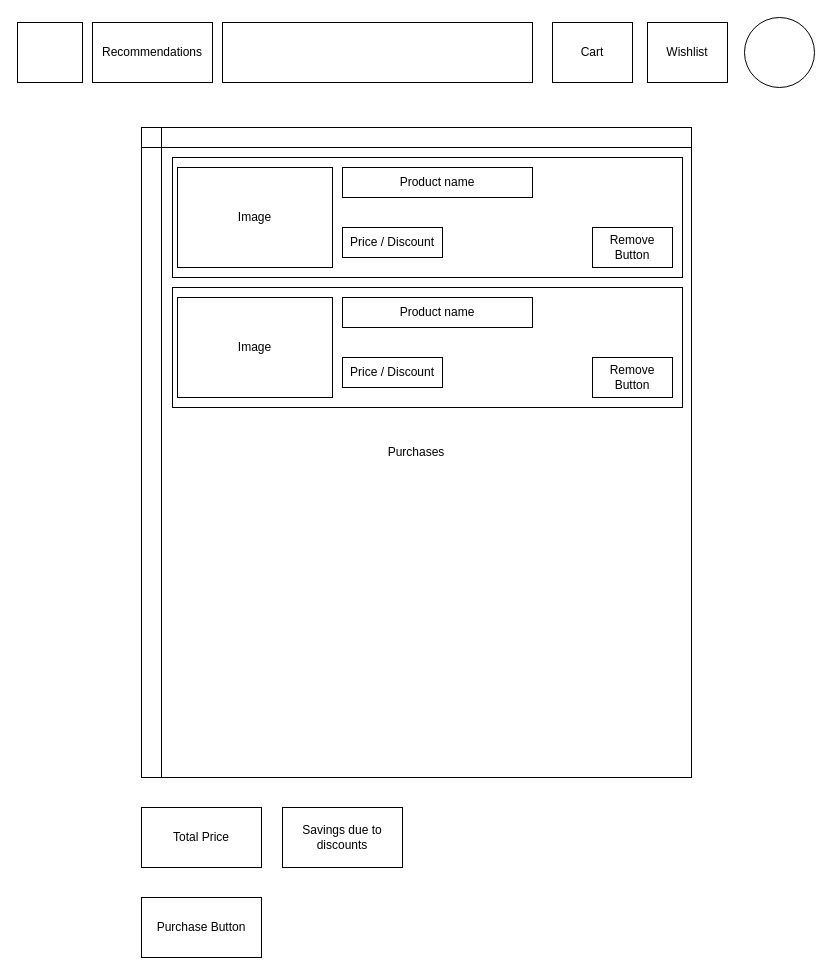
The diagram is 832 pixels wide and 975 high, and some of its shapes have lost their labels. Here are the shapes that lost their labels. From the top down, the centre of each, then its label:
At point 49,52: "Home".
At point 377,52: "Search bar".
At point 779,52: "User Profile".
